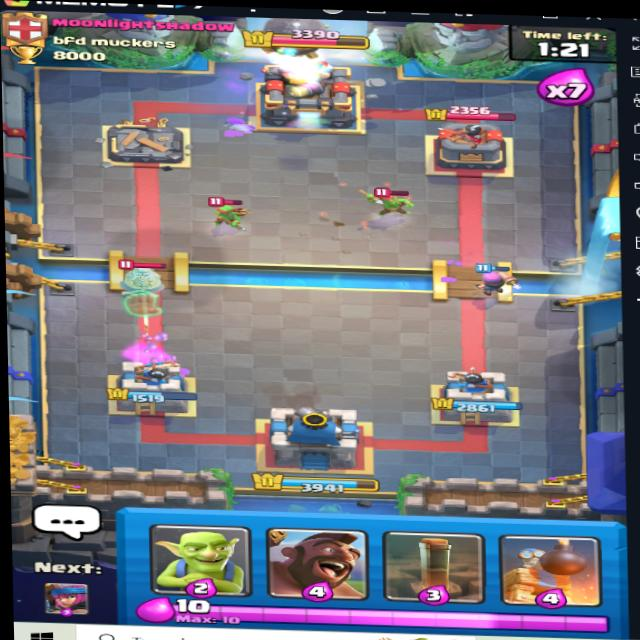monk: (106, 256, 174, 297)
monk-ability: (105, 255, 183, 299)
rocket: (254, 16, 333, 60)
spear-goblin: (207, 197, 251, 230), (372, 182, 411, 219)
